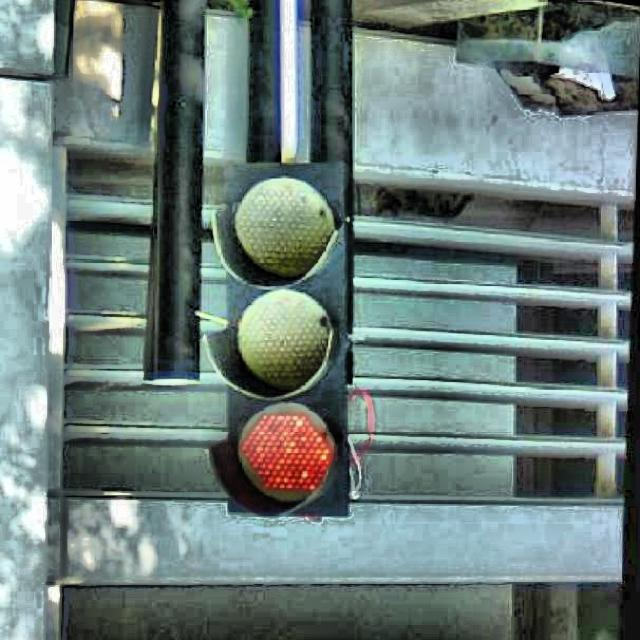red: (214, 166, 348, 514)
